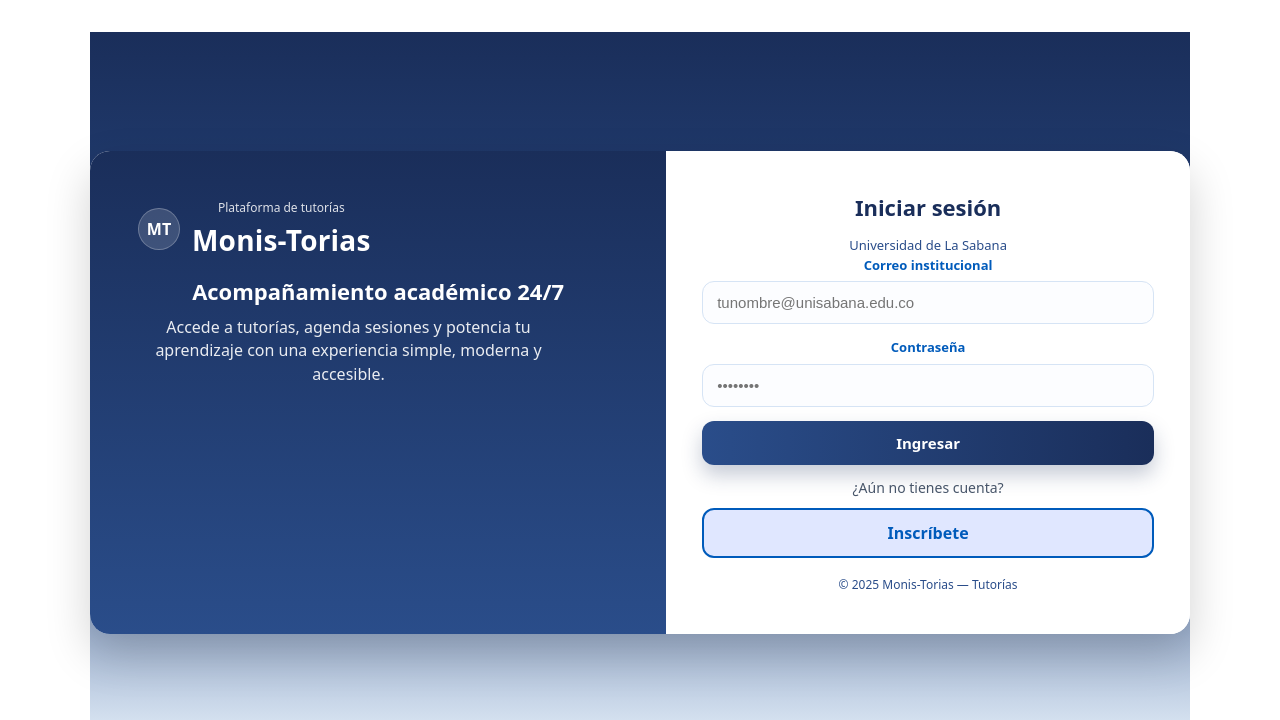
Scenario: Login Component › should toggle between login and register modes
Expected: the text "Iniciar sesión" is shown, x1=855 y1=192 x2=1001 y2=222
# Cambiar a modo registro
Click the button "Inscríbete".
click(928, 532)  # box x1=702 y1=508 x2=1154 y2=558
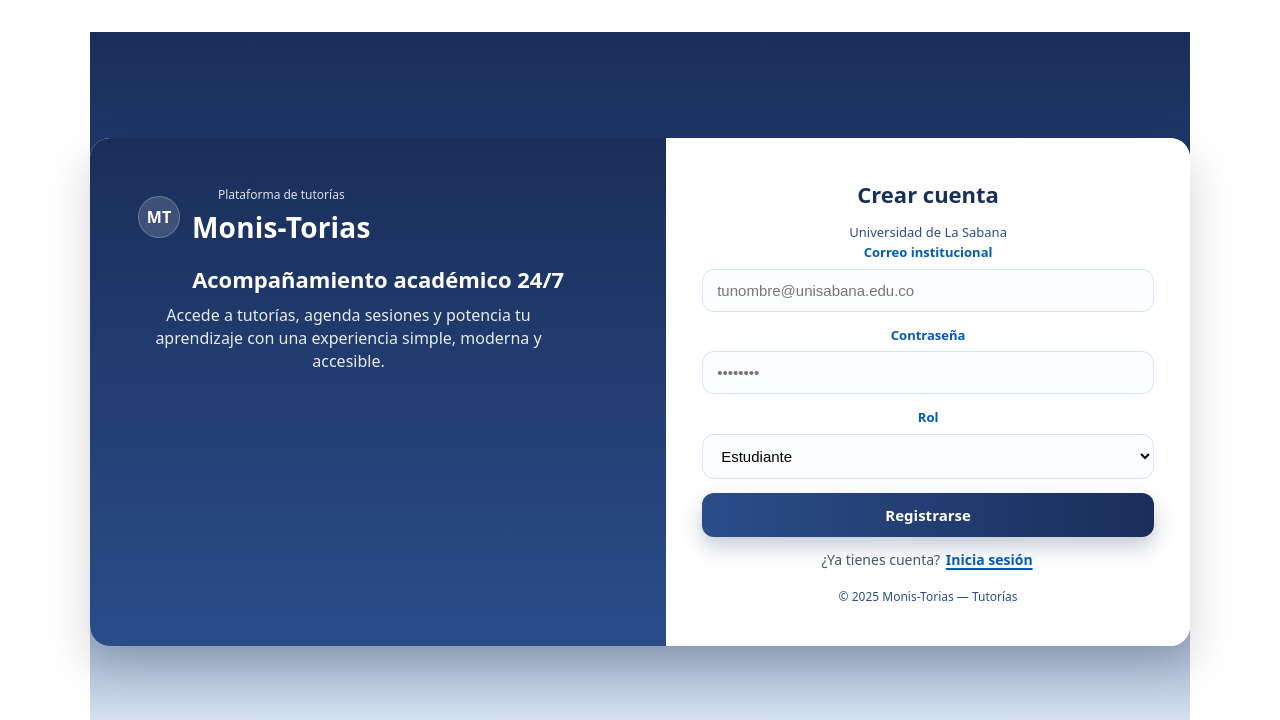
Expected: the text "Crear cuenta" is shown, x1=857 y1=179 x2=999 y2=209
# Volver a modo login
Click the button "Inicia sesión".
click(989, 559)  # box x1=944 y1=550 x2=1035 y2=569
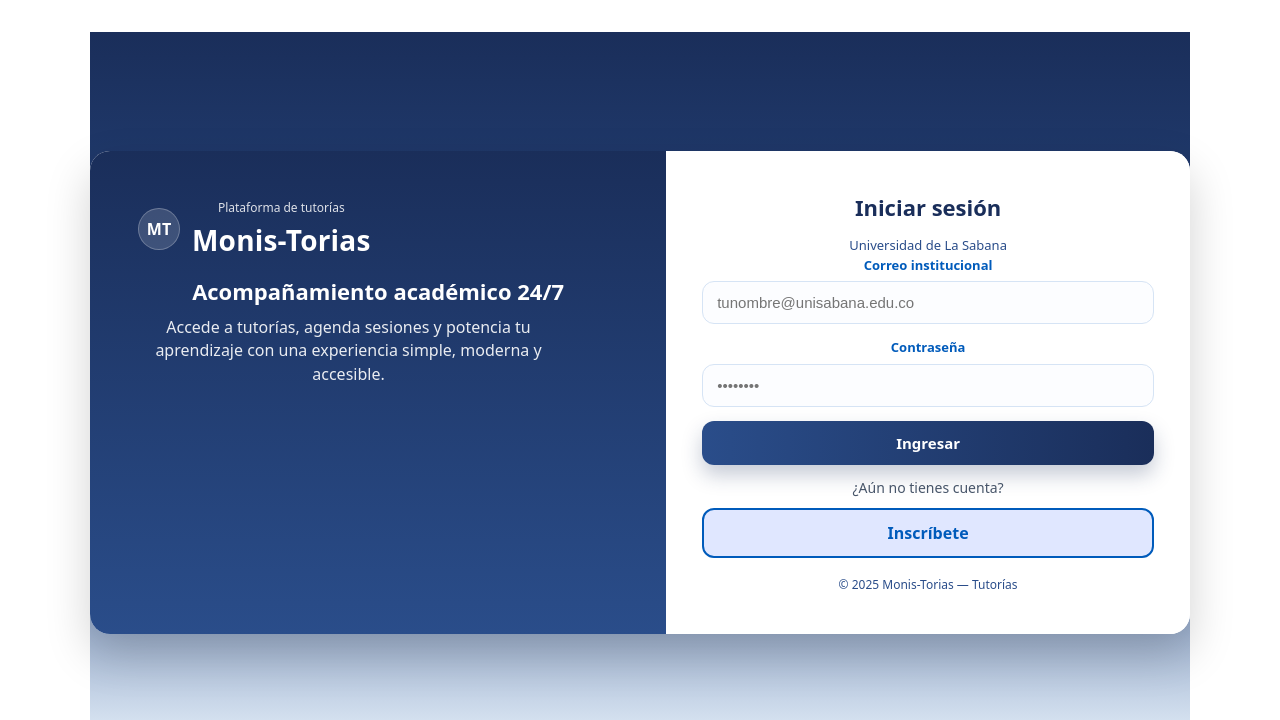
Expected: the text "Iniciar sesión" is shown, x1=855 y1=192 x2=1001 y2=222
